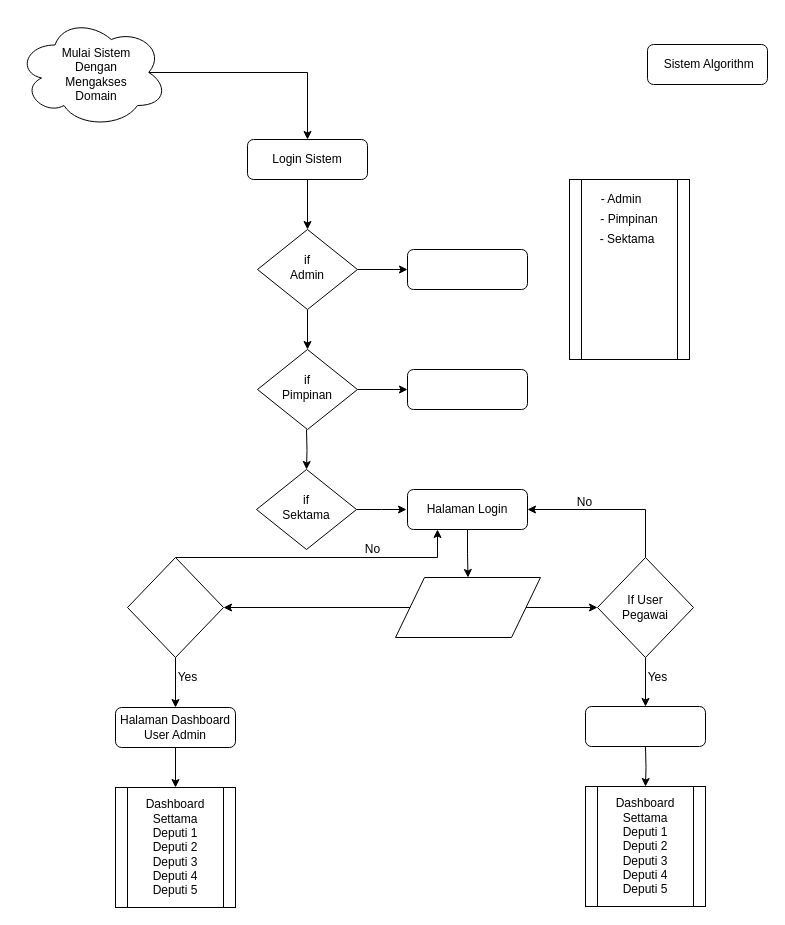
This 785x925 diagram has some shape labels left out. Each missing label, with the centre of its shape:
"Halaman Dashboard User Pegawai" belongs at (x=645, y=726).
"Halaman Penjelasan Penggunaan Sistem" belongs at (x=467, y=389).
"Halaman Utama" belongs at (x=467, y=269).
"If User Superadmin" belongs at (x=175, y=607).
"Login Authentication" belongs at (x=467, y=607).
